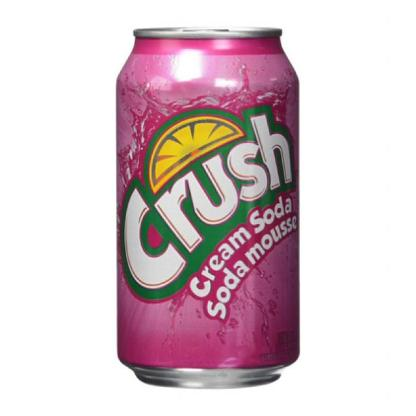Can: (106, 13, 338, 414)
